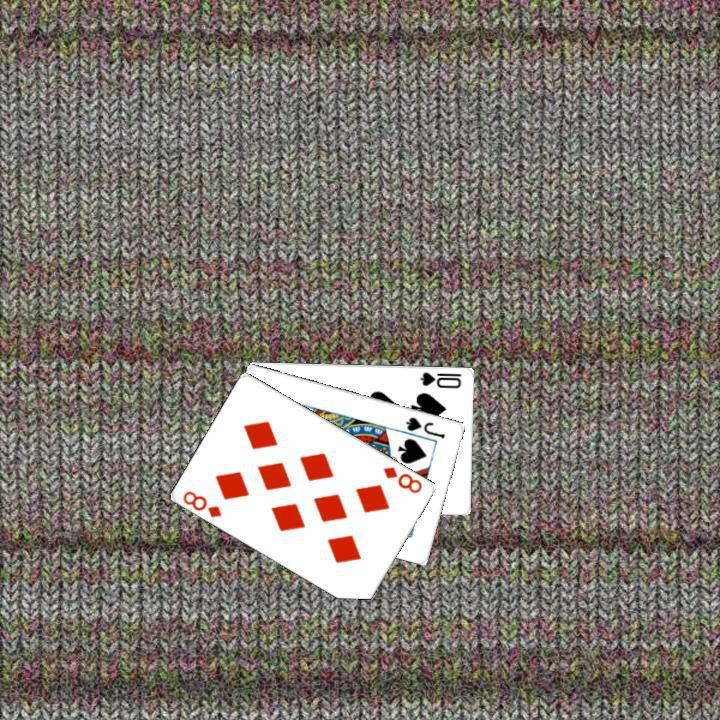10: (416, 367, 464, 389)
8: (179, 486, 224, 520), (379, 462, 425, 495)
J: (402, 412, 447, 440)
